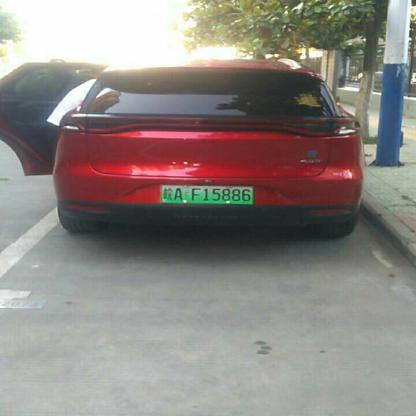lp: (161, 186, 253, 202)
